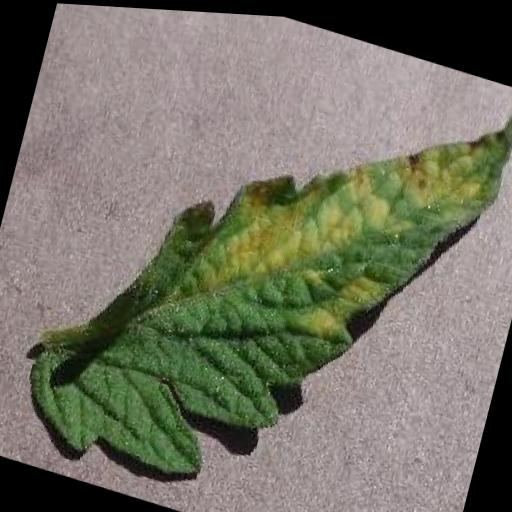Leaf Mold: (13, 1, 512, 512)
